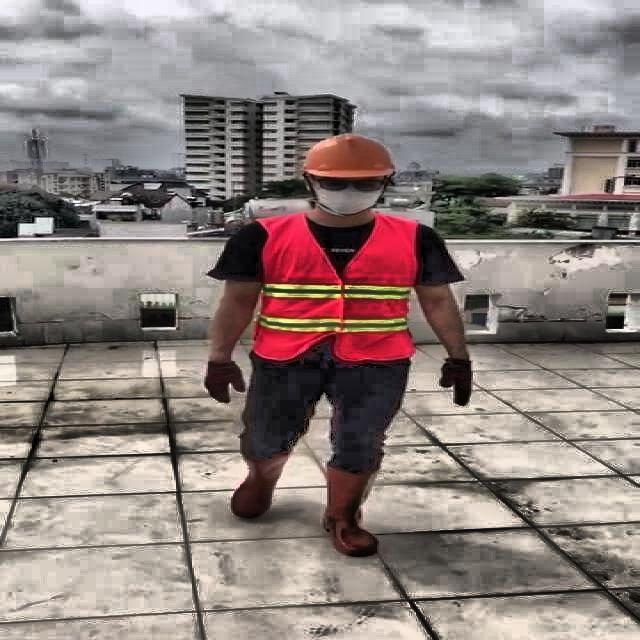safety_helmet: (300, 132, 400, 178)
safety_jacket: (256, 217, 407, 361)
